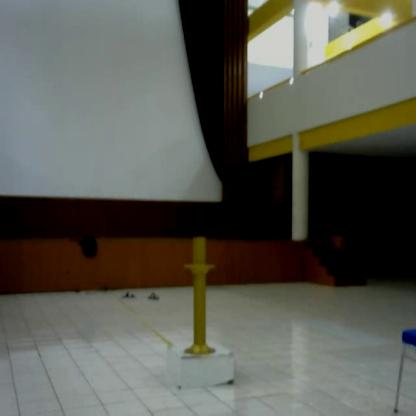pole: (180, 230, 221, 362)
